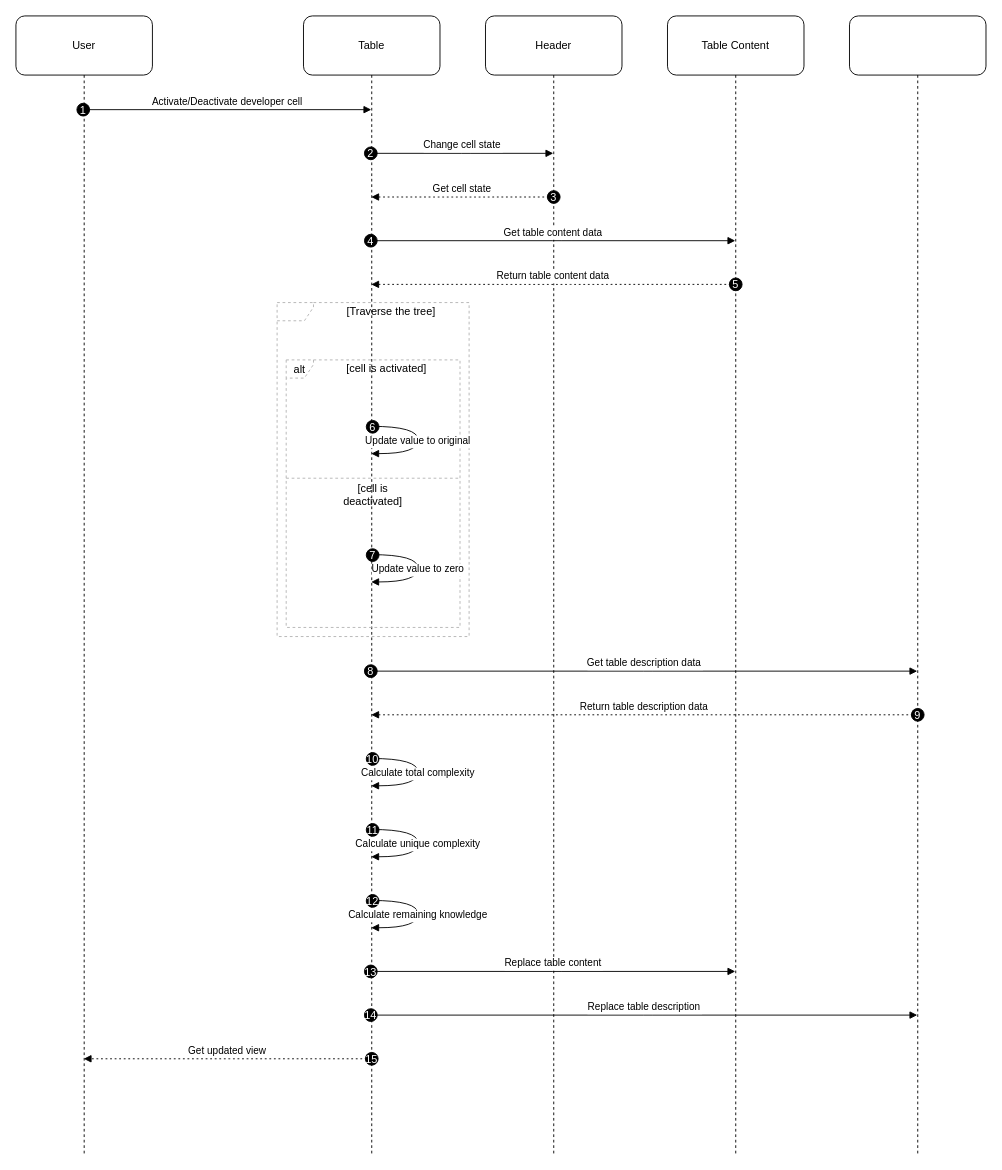
Image size: 1002x1170. Some labels were removed from this diagram. Each missing label, with the box of its shape:
loop: (276, 302, 469, 637)
Table Description: (849, 15, 986, 1154)
